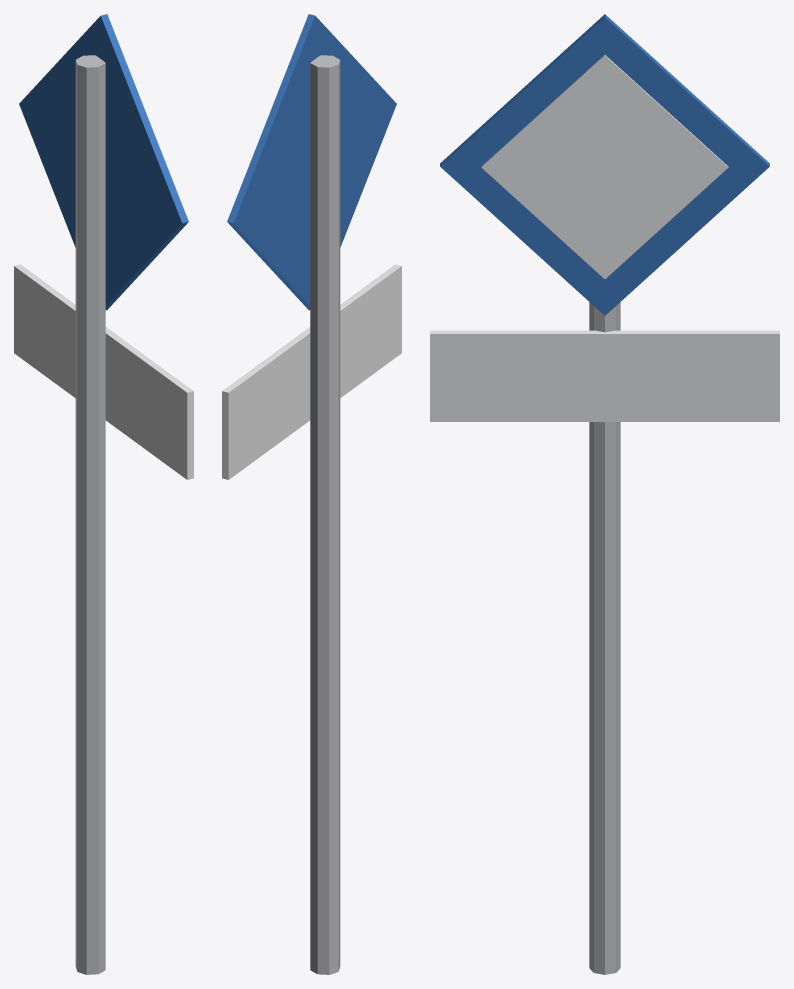
File: SM_Prop_StreetSign.glb
3 views of the same model, side by side, from view 1: azimuth 30°, elevation 25°; view 2: azimuth 150°, elevation 25°; view 3: azimuth 270°, elevation 25° (orthographic).
Visible parts, largest first — view 1: SM_Prop_StreetSign; view 2: SM_Prop_StreetSign; view 3: SM_Prop_StreetSign.
Part boxes in pixels (<box>): SM_Prop_StreetSign: <box>14,14,193,974</box>; SM_Prop_StreetSign: <box>222,14,401,974</box>; SM_Prop_StreetSign: <box>430,14,779,974</box>.
Bounding box in the file's own units: 0.095 × 2.72 × 0.9.
